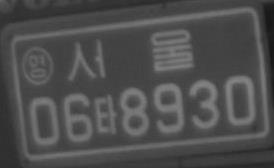0: (223, 75, 257, 128), (27, 95, 59, 147)
3: (188, 79, 220, 129)
6: (62, 92, 93, 144)
8: (119, 86, 149, 139)
9: (153, 82, 184, 133)
서울_D: (66, 27, 195, 82)
영: (20, 46, 55, 86)
타: (93, 93, 119, 135)
